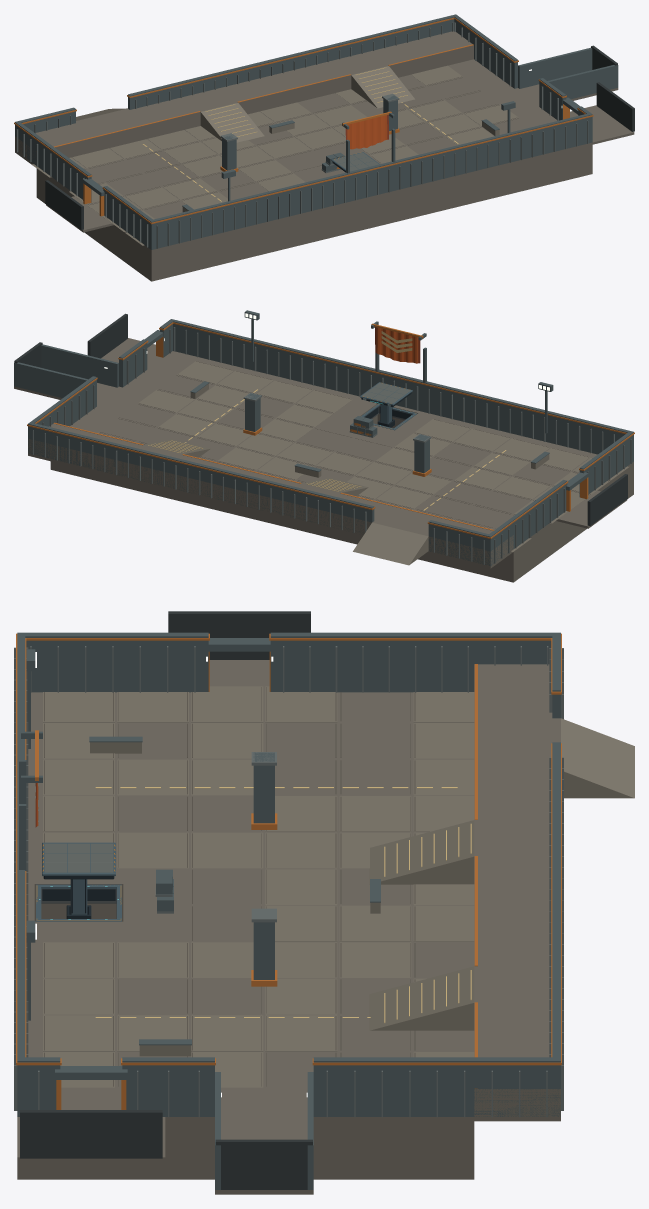
The model's file is wsc-scene-007-c2-pit.glb.
3 renders of one model, top to bottom at view 1: azimuth 30°, elevation 25°; view 2: azimuth 150°, elevation 25°; view 3: azimuth 270°, elevation 25°, orthographic. The views are drawn at different scales.
Visible parts, largest first — view 1: 01 Floor around shaft, 02 Ground panel wear, 03 North entry ledge, 04 South retaining shell, 05 North shell, 03 North entry ledge.002, 06 West shell, 10 G2 exit stub.002, 07 East shell, 04 South retaining shell.002, 02 Ground panel wear.001, 13 Cloth banner.001 (+14 smaller); view 2: 01 Floor around shaft, 02 Ground panel wear, 04 South retaining shell, 03 North entry ledge, 05 North shell, 06 West shell, 10 G2 exit stub.002, 03 North entry ledge.002, 07 East shell, 02 Ground panel wear.001, 04 South retaining shell.002, 05 North shell.002 (+17 smaller); view 3: 02 Ground panel wear, 01 Floor around shaft, 03 North entry ledge, 06 West shell, 07 East shell, 03 North entry ledge.002, 08 D4 storage recess.001, 10 G2 exit stub.001, 08 D3 storage recess.001, 02 Ground panel wear.001, 05 North shell, 04 South retaining shell (+23 smaller).
Boxes of the visible parts, box(x1,y1,x2,y2) form: 01 Floor around shaft: box(36, 59, 592, 281); 02 Ground panel wear: box(32, 65, 518, 245); 03 North entry ledge: box(15, 31, 473, 164); 04 South retaining shell: box(149, 114, 592, 249); 05 North shell: box(15, 14, 457, 136); 03 North entry ledge.002: box(76, 66, 414, 142); 06 West shell: box(15, 122, 155, 249); 10 G2 exit stub.002: box(518, 47, 618, 99); 07 East shell: box(453, 14, 591, 120); 04 South retaining shell.002: box(156, 120, 588, 248); 02 Ground panel wear.001: box(33, 76, 518, 245); 13 Cloth banner.001: box(347, 115, 387, 149); 01 Floor around shaft: box(50, 351, 633, 582); 02 Ground panel wear: box(98, 361, 629, 552); 04 South retaining shell: box(169, 319, 633, 454); 03 North entry ledge: box(28, 423, 513, 568); 05 North shell: box(28, 422, 492, 566); 06 West shell: box(487, 432, 633, 565); 10 G2 exit stub.002: box(14, 344, 118, 398); 03 North entry ledge.002: box(144, 439, 428, 565); 07 East shell: box(28, 319, 173, 426); 02 Ground panel wear.001: box(99, 361, 608, 551); 04 South retaining shell.002: box(173, 327, 614, 453); 05 North shell.002: box(32, 430, 484, 564); 02 Ground panel wear: box(43, 686, 474, 1087); 01 Floor around shaft: box(17, 688, 474, 1179); 03 North entry ledge: box(474, 664, 560, 1121); 06 West shell: box(17, 632, 560, 692); 07 East shell: box(17, 1057, 560, 1116); 03 North entry ledge.002: box(369, 718, 634, 1030); 08 D4 storage recess.001: box(20, 1110, 162, 1158); 10 G2 exit stub.001: box(215, 1139, 312, 1189); 08 D3 storage recess.001: box(168, 611, 310, 659); 02 Ground panel wear.001: box(44, 687, 415, 1086); 05 North shell: box(552, 632, 560, 1116); 04 South retaining shell: box(17, 632, 25, 1116).
Bounding box in the file's own units: 102 × 19.31 × 50.26.
